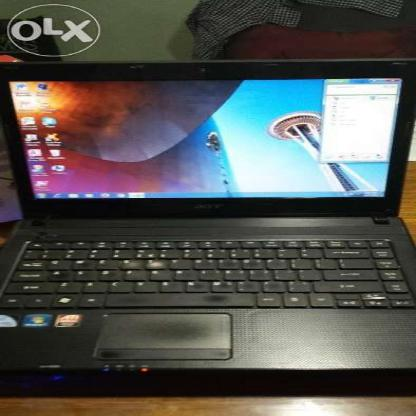Normal: (9, 76, 406, 205)
